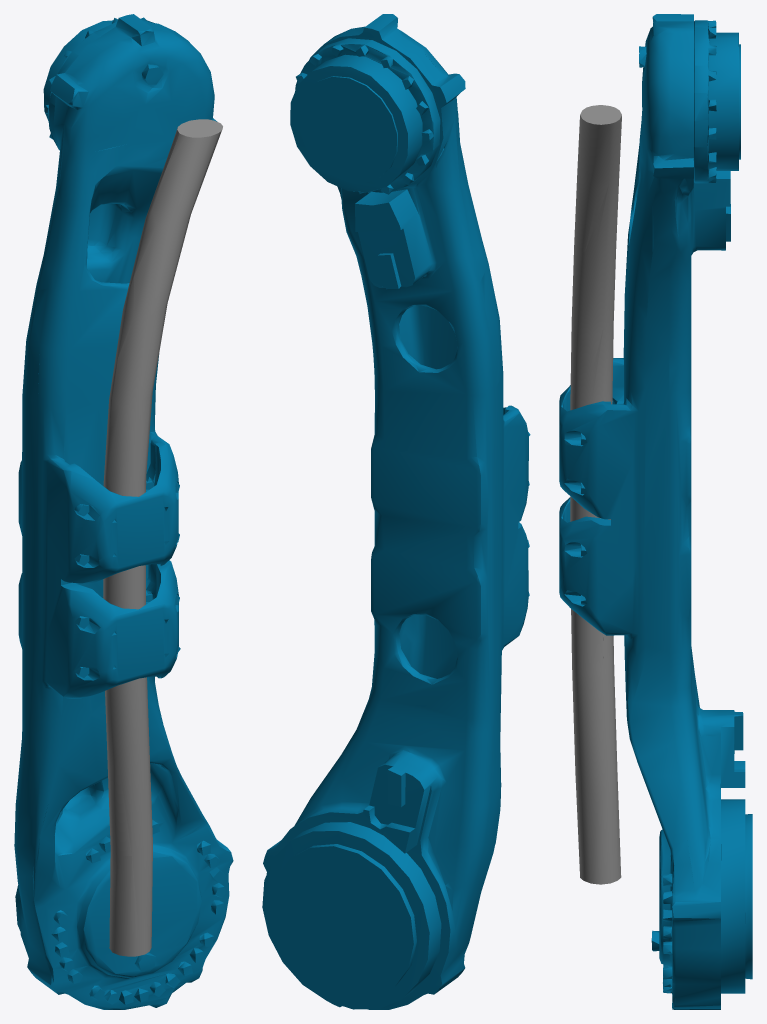
The picture shows the model from 3 angles, left to right: view 1: azimuth 30°, elevation 25°; view 2: azimuth 150°, elevation 25°; view 3: azimuth 270°, elevation 25°; orthographic projection.
Visible parts, largest first — view 1: gp8l_lk2; view 2: gp8l_lk2; view 3: gp8l_lk2.
Boxes of the visible parts, x1,y1,x2,y2 form: gp8l_lk2: (14, 14, 233, 1009); gp8l_lk2: (262, 14, 530, 1009); gp8l_lk2: (559, 14, 752, 1009).
Bounding box in the file's own units: 0.1963 × 0.1577 × 0.8814.
